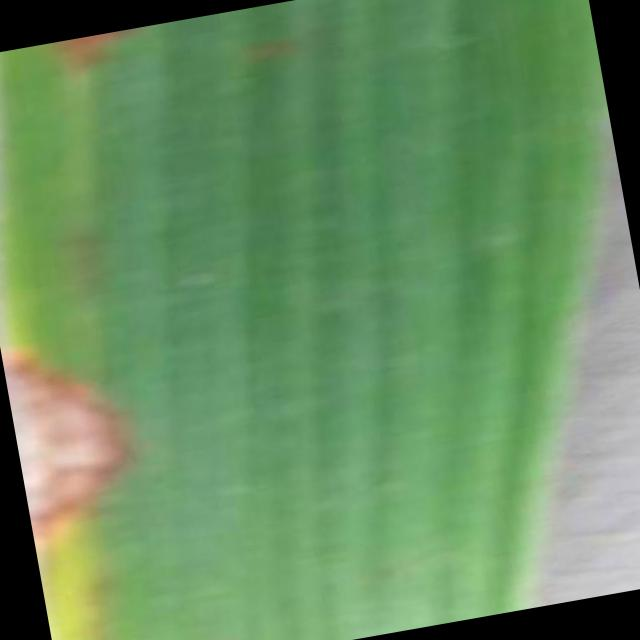Rice_Blast: (0, 296, 176, 579)
